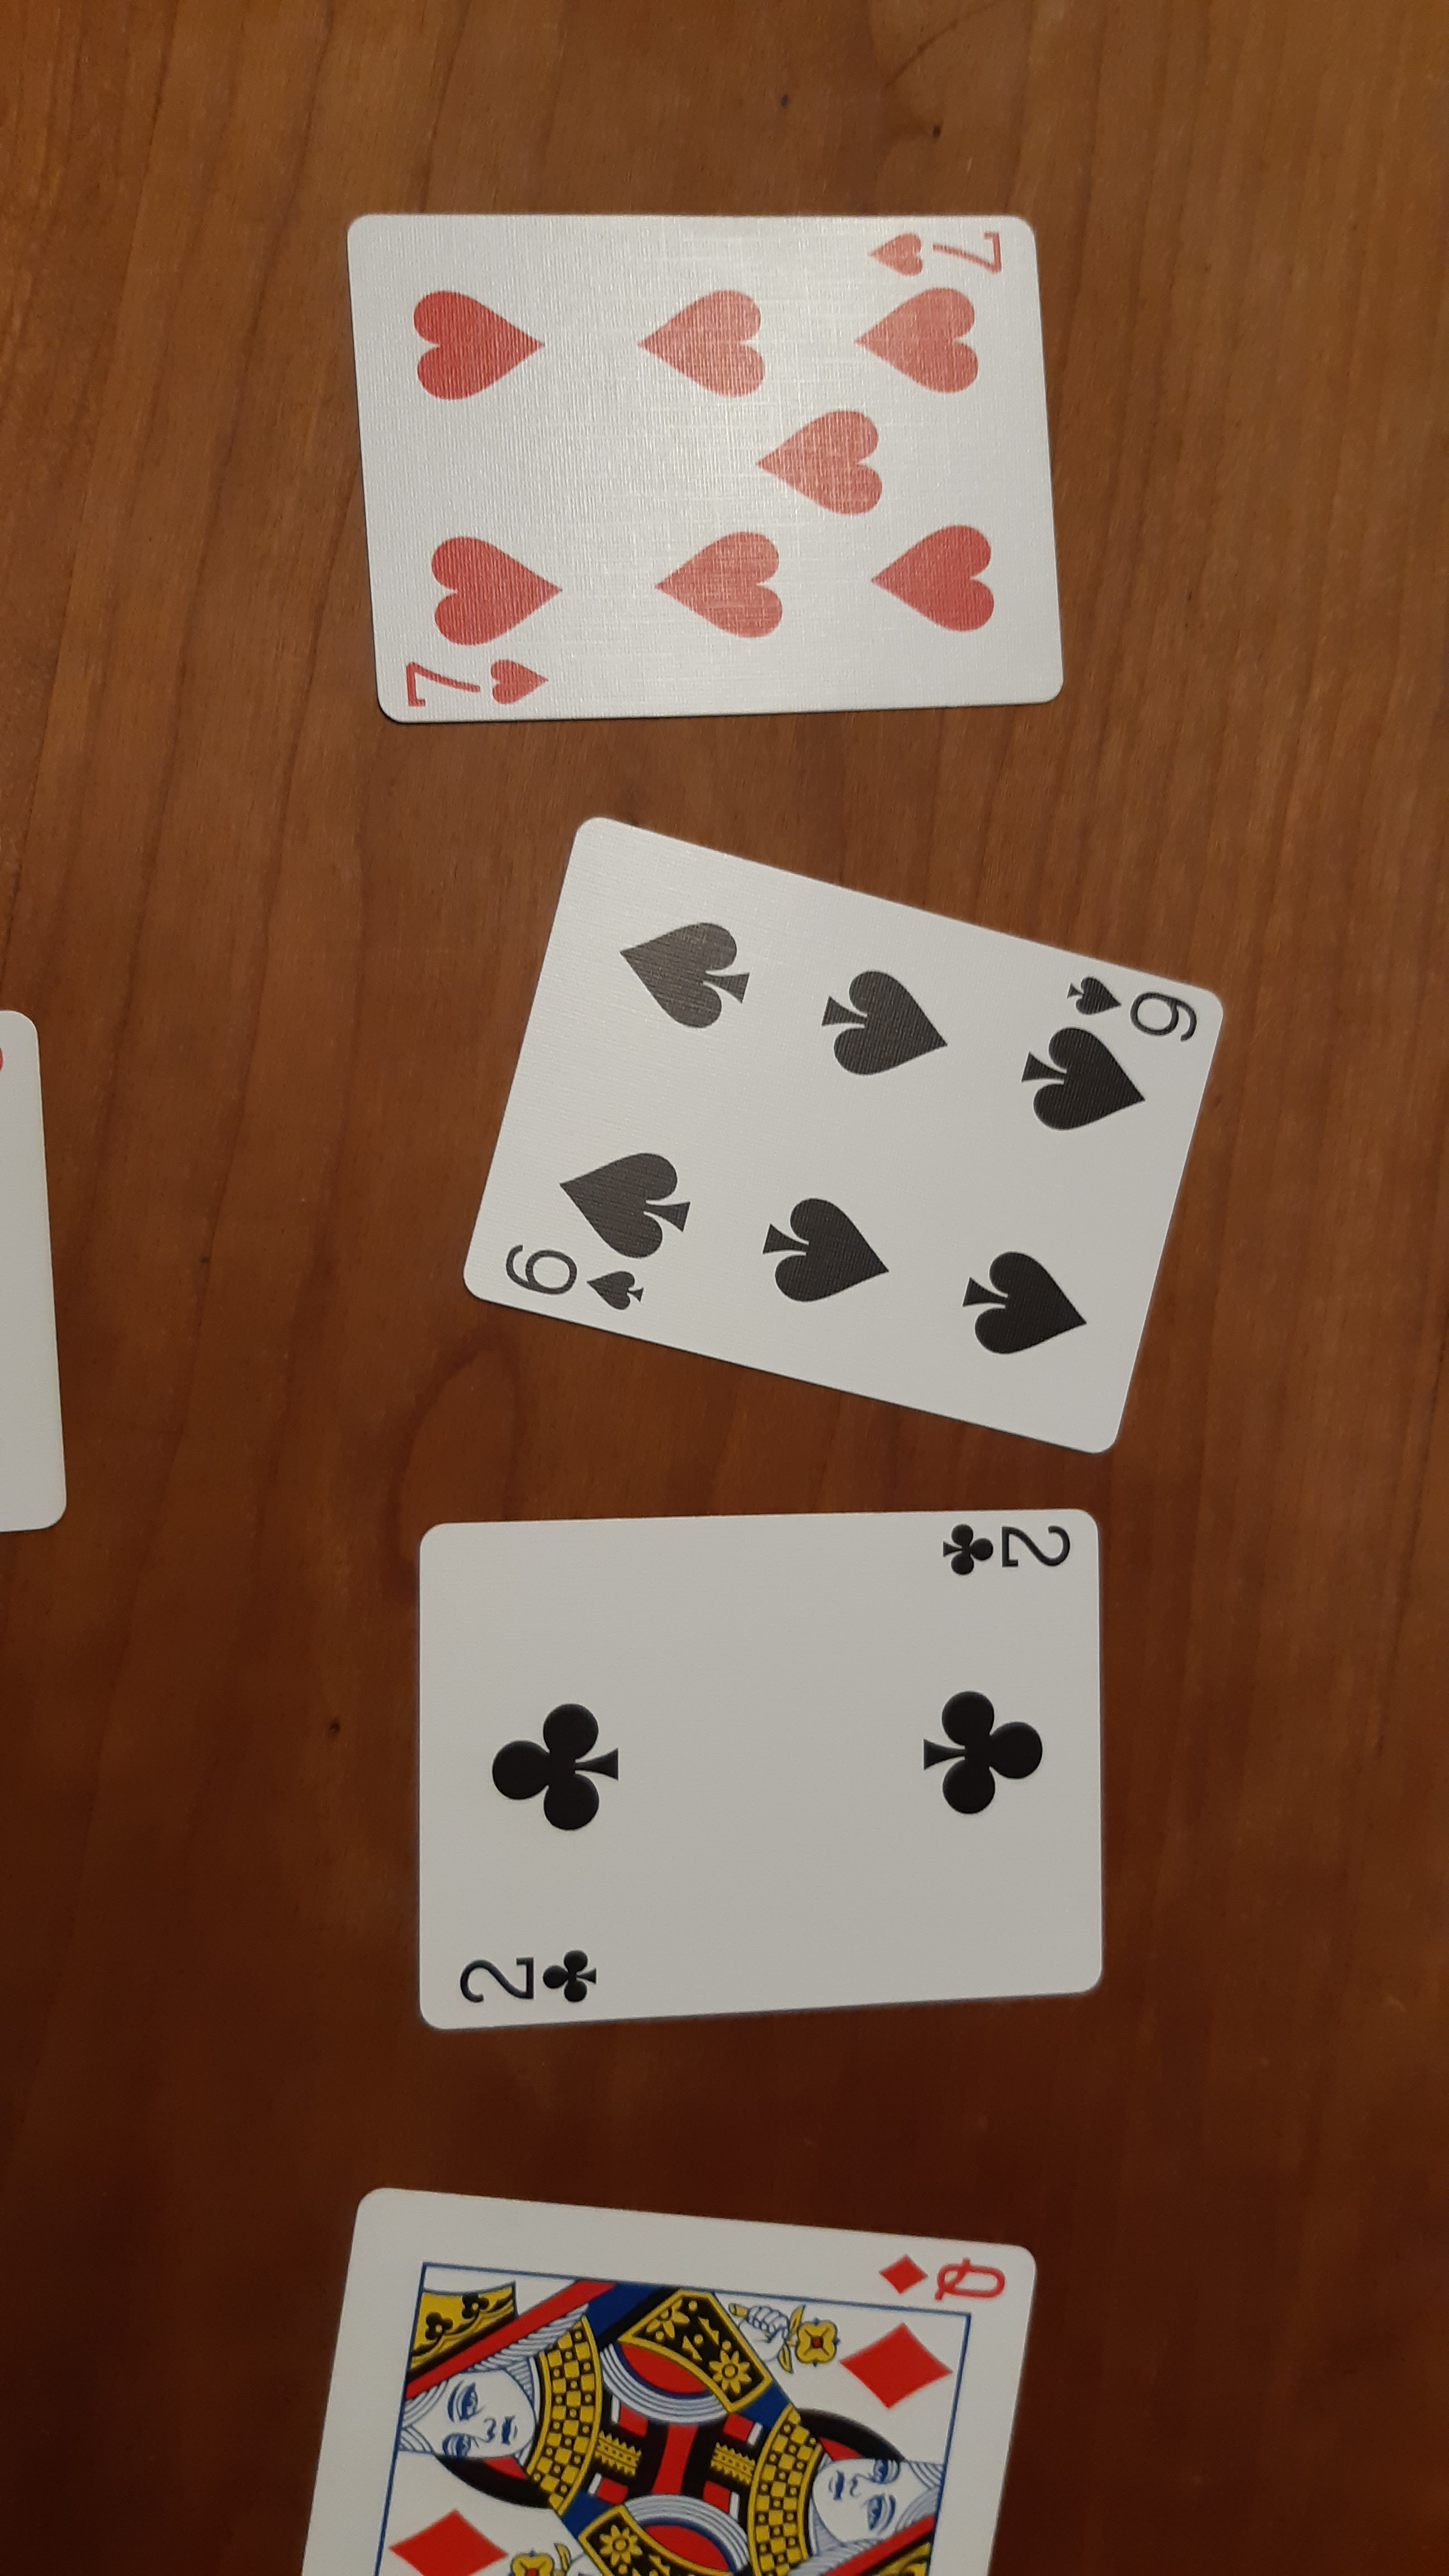Black_Club_2: (435, 1934, 602, 2017), (938, 1511, 1077, 1591)
Black_Spade_6: (478, 899, 1228, 1368)
Red_Diamond_Queen: (870, 2240, 1007, 2311)
Red_Heart_7: (386, 646, 557, 718), (858, 219, 1017, 280)
